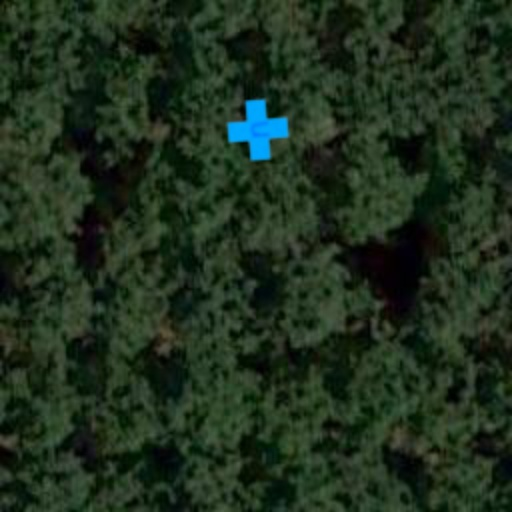cross: (224, 96, 292, 164)
